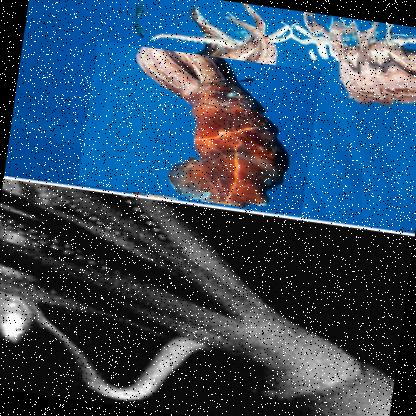colossal_squid: (0, 182, 413, 415), (75, 39, 320, 215)
